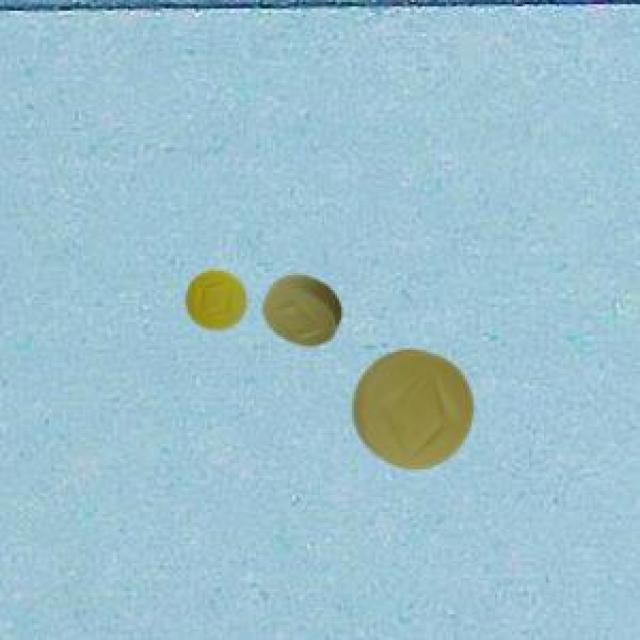Decolgen: (350, 330, 480, 480), (257, 261, 352, 355), (174, 254, 252, 355)
